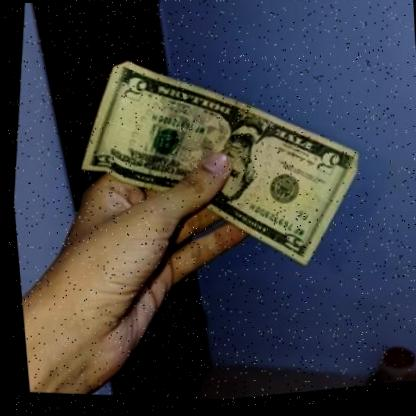five-front: (57, 33, 377, 297)
